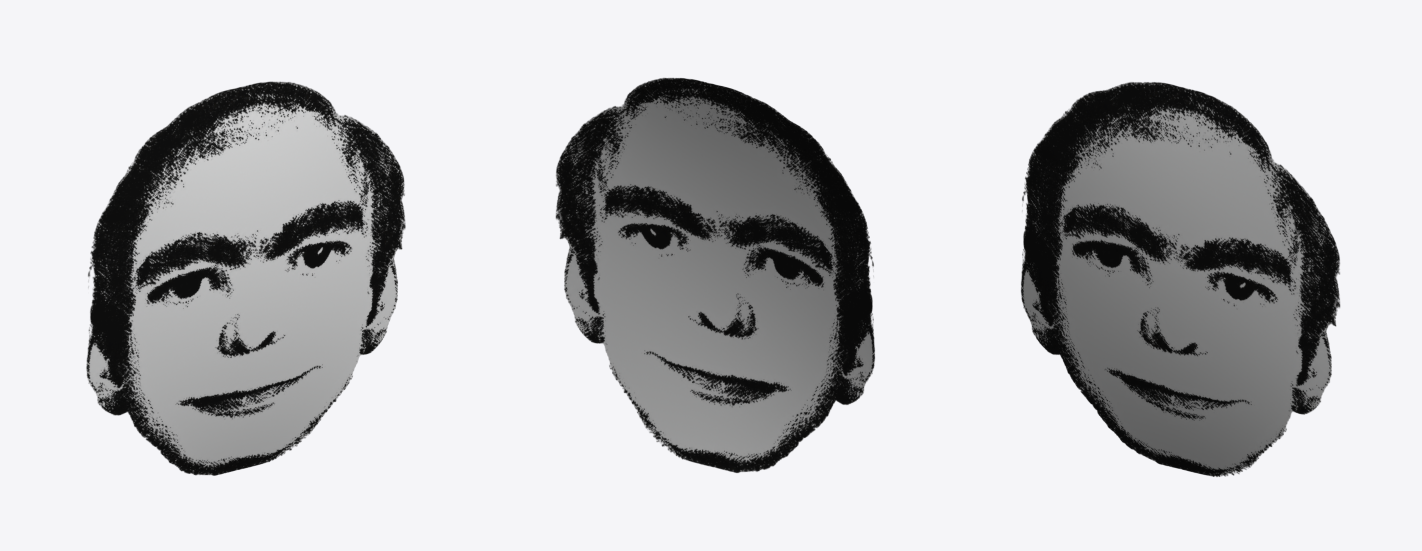
Rendered from this-man-mask.glb.
3 renders of one model, left to right at view 1: azimuth 30°, elevation 25°; view 2: azimuth 150°, elevation 25°; view 3: azimuth 330°, elevation 25°, orthographic.
Parts seen in each view (by area): view 1: This Man mask; view 2: This Man mask; view 3: This Man mask.
Part boxes in pixels (x1,y1,x2,y2): This Man mask: (86,81,405,475); This Man mask: (555,78,874,472); This Man mask: (1021,82,1340,476).
Size of the model in its own units: 1.35 by 1.2 by 0.075.
1 material, 1 textured.
